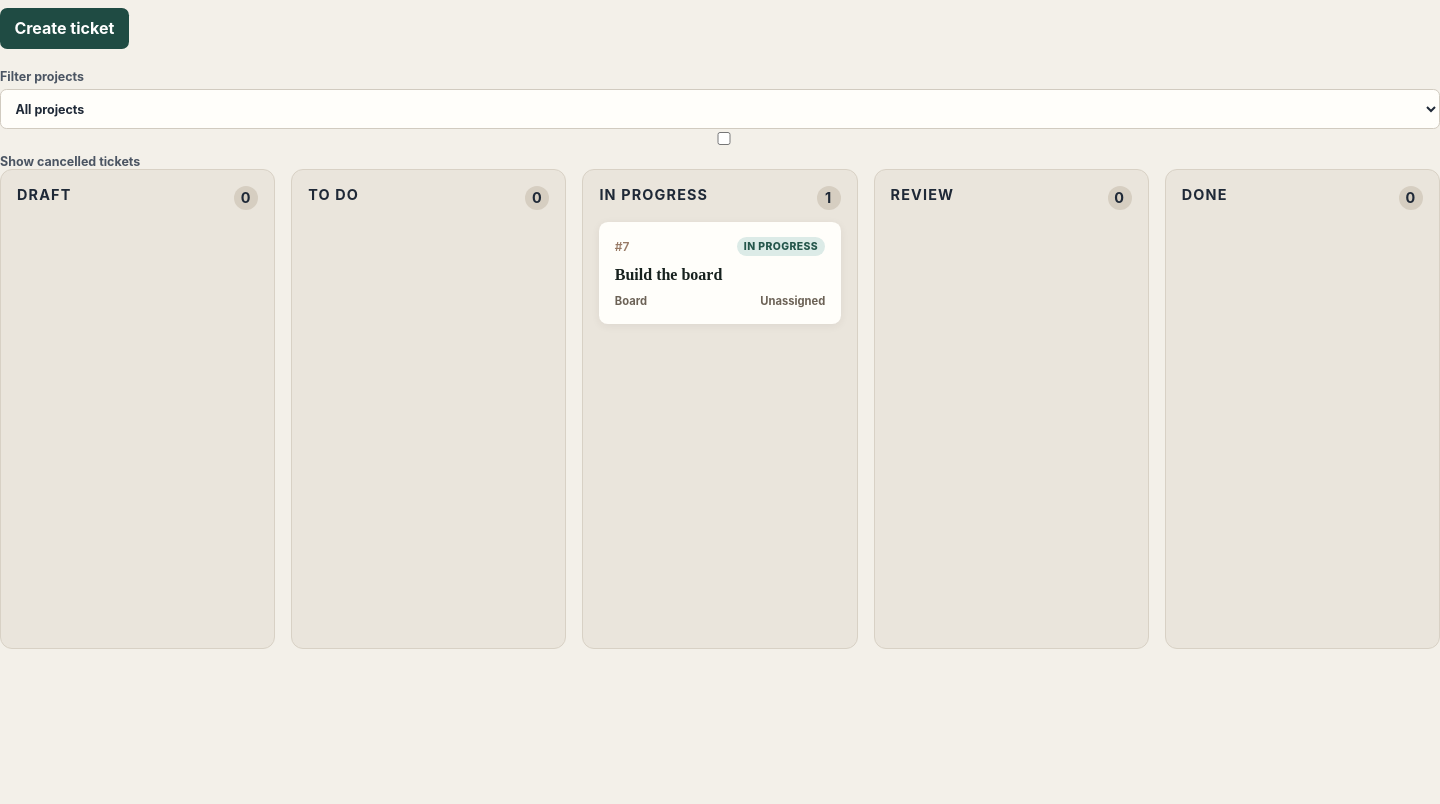
Test: KanbanBoard › opens and closes the complete ticket editor outside the card
Click the button "Build the board" at (720, 273), box [599, 222, 841, 324]
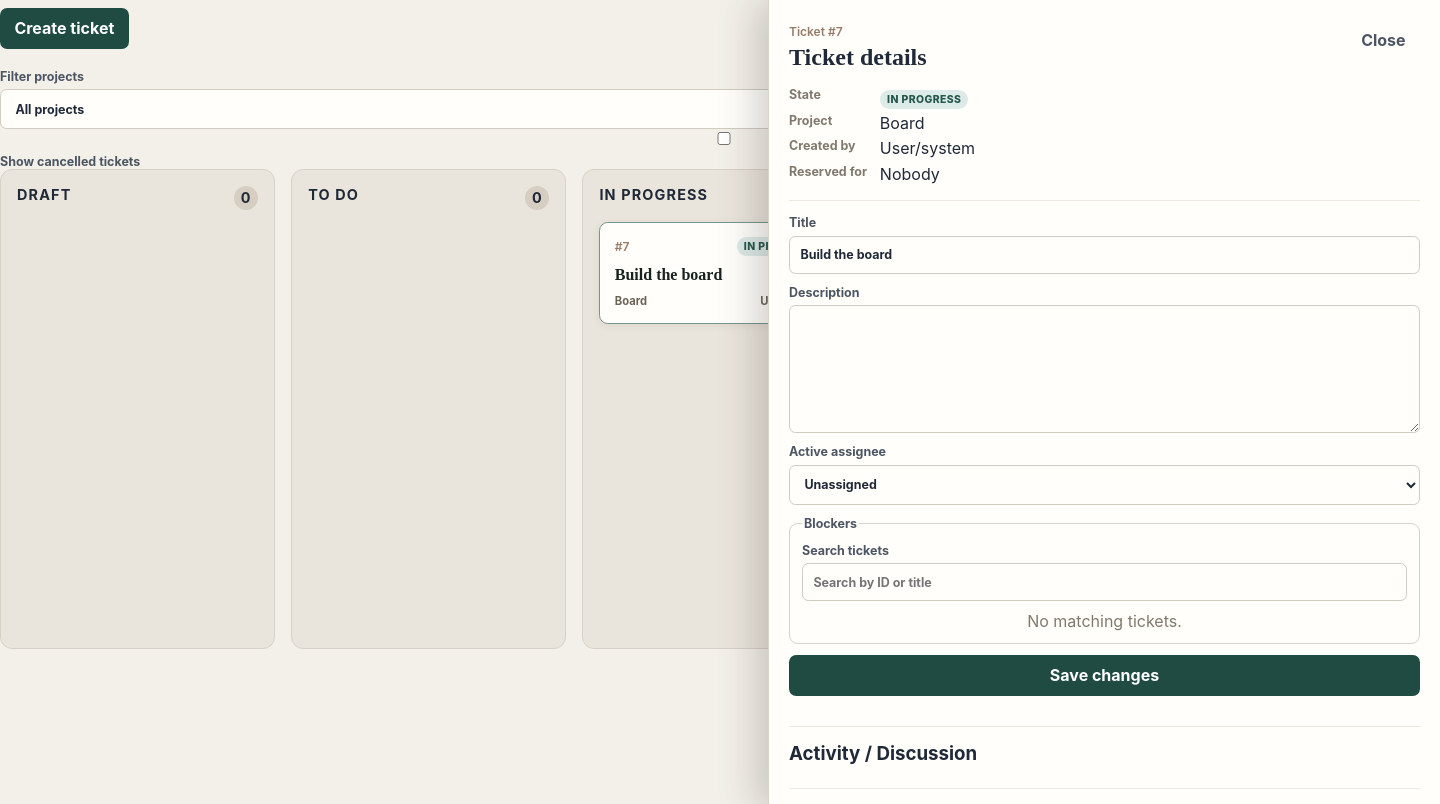
Now the heading "Ticket details" is shown, box [789, 44, 927, 71]
Now the field showing "Build the board" is shown, box [789, 236, 1420, 274]
Click the button "Close" at (1383, 40), box [1347, 20, 1420, 61]
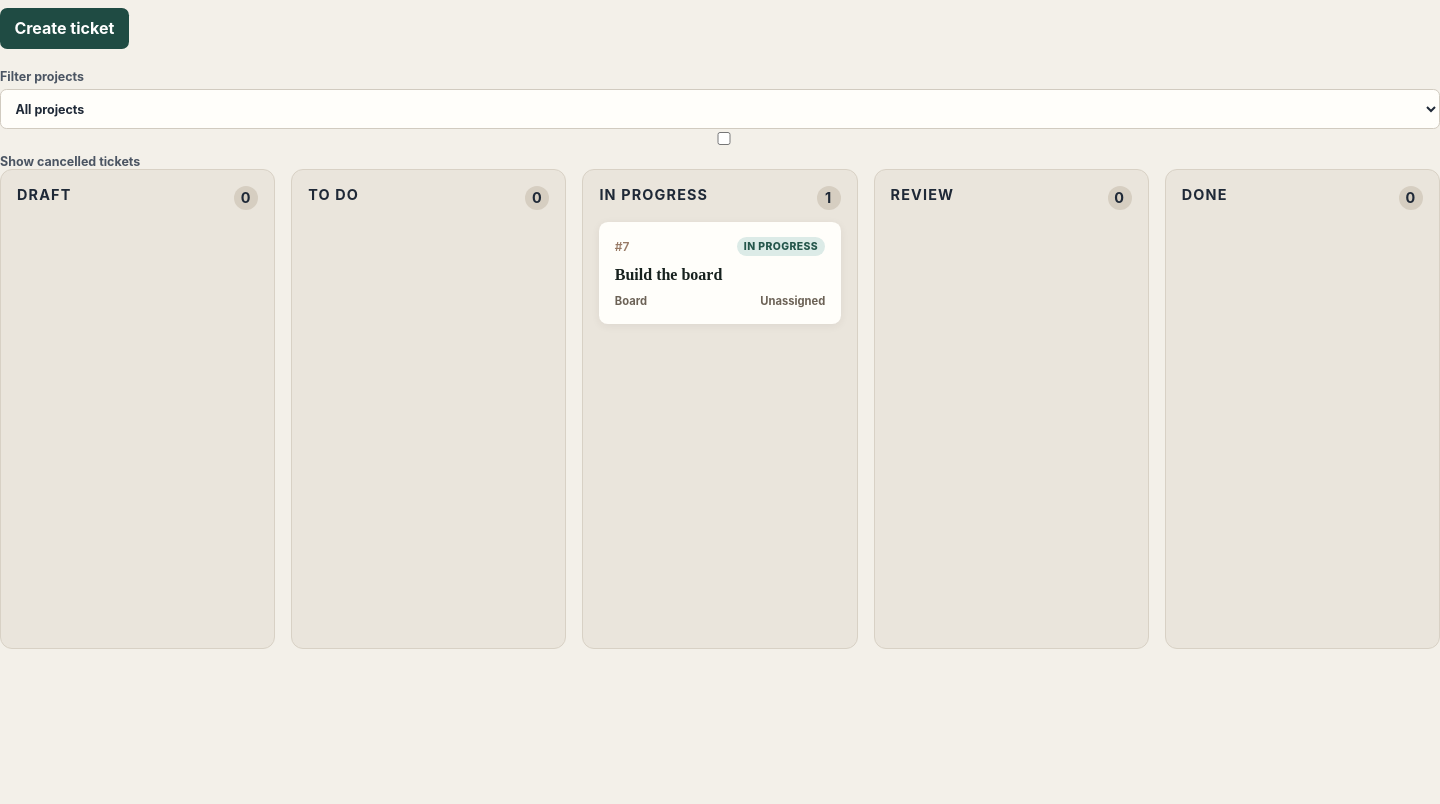
Now the heading "Ticket details" is gone
